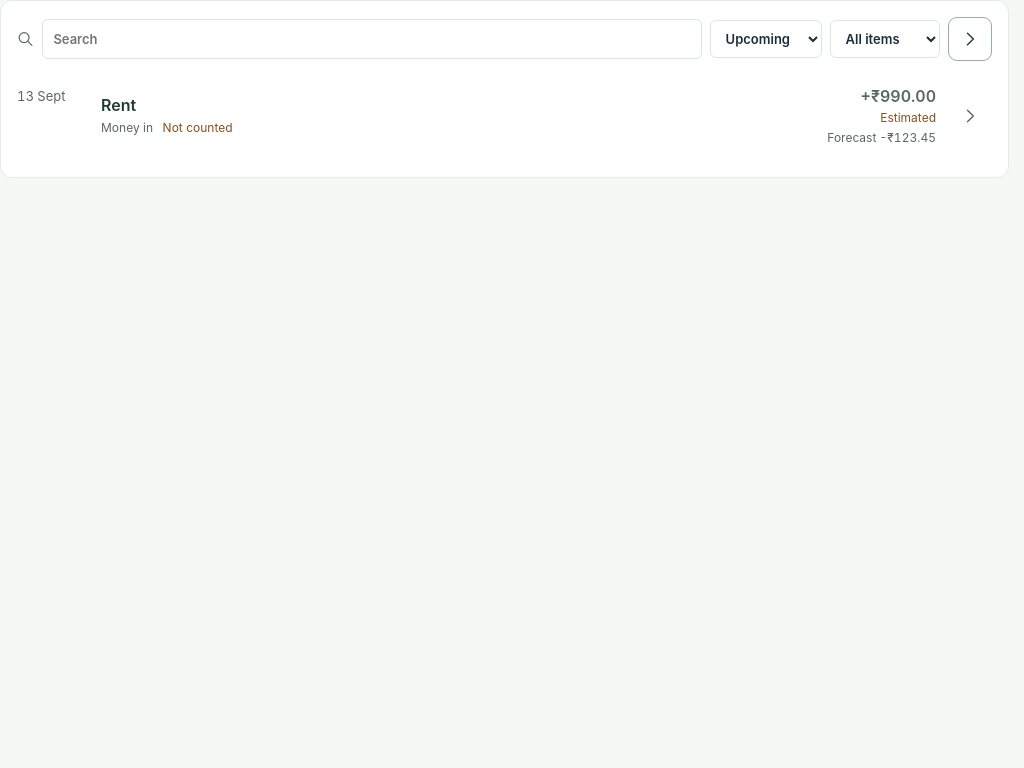
keeps excluded uncertain income visibly separate from assured money and exposes its actual exclusion reason
The width and height of the screenshot is (1024, 768).
Check: the text "Money in" is shown, box [101,120,153,138]
Check: the text "Not counted" is shown, box [163,120,232,138]
Click the button named "Details for Rent on 13 Sept 2026" at (970, 116), box [948,94,992,138]
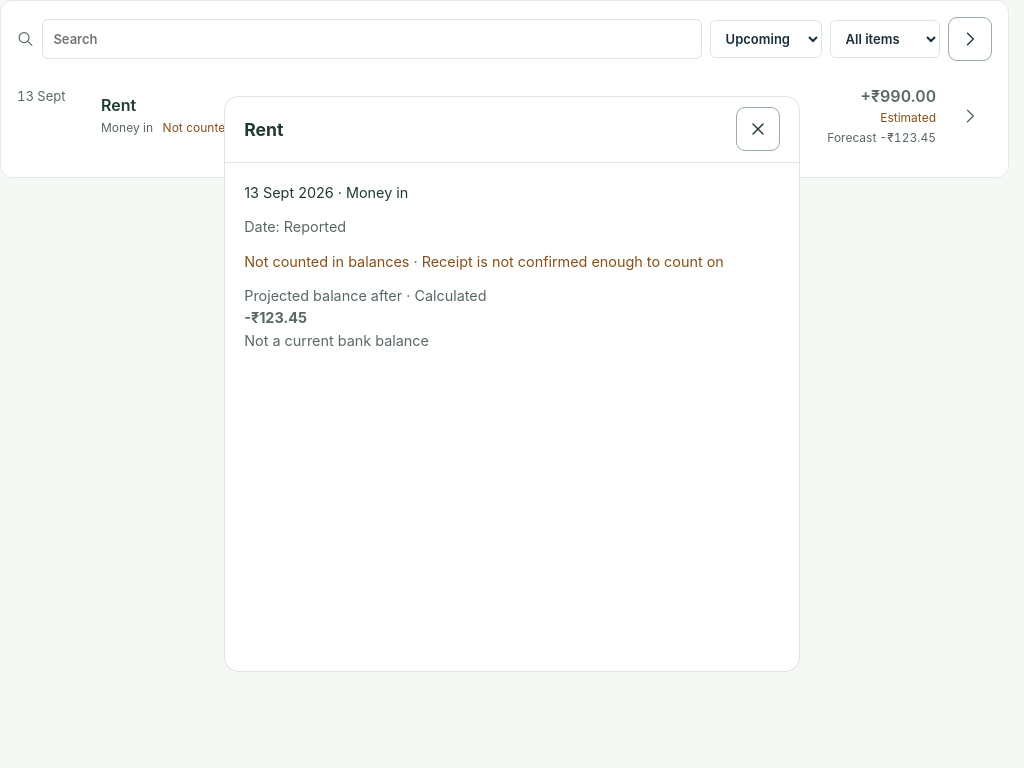
Check: the dialog "Rent" does not show "Proposed assumption", box [224,96,800,672]
Check: the text "Not counted in balances · Receipt is not confirmed enough to count on" is shown, box [244,251,780,273]
